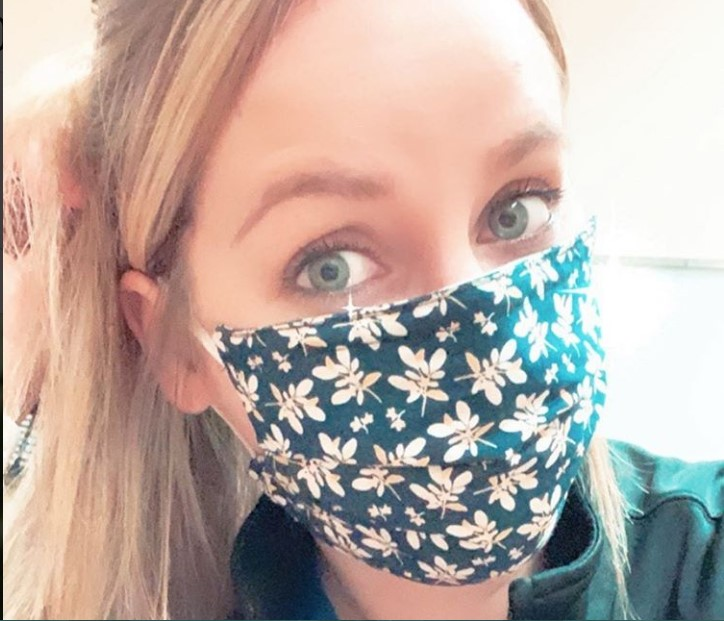face_with_mask: (93, 0, 620, 601)
